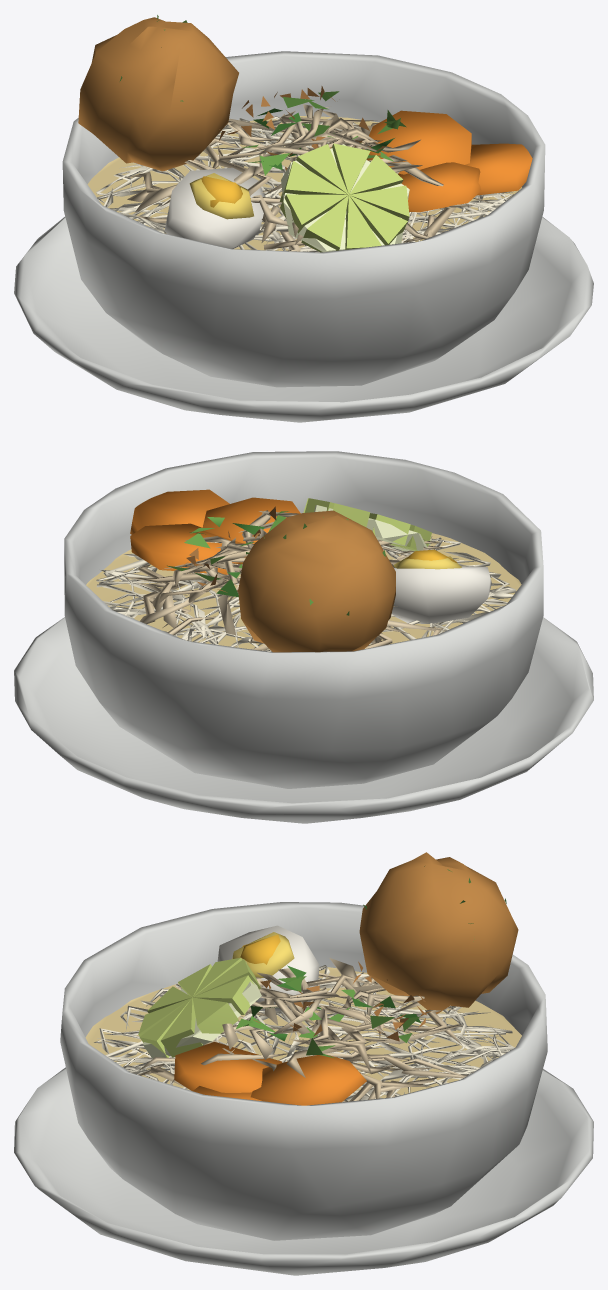
File: soto banjar low poly.fbx
The picture shows the model from 3 angles, top to bottom: view 1: azimuth 30°, elevation 25°; view 2: azimuth 150°, elevation 25°; view 3: azimuth 270°, elevation 25°; orthographic projection.
Visible parts, largest first — view 1: Soto_Banjar_Isi.001; view 2: Soto_Banjar_Isi.001; view 3: Soto_Banjar_Isi.001.
Boxes of the visible parts, bbox=[...] form: Soto_Banjar_Isi.001: bbox=[14, 15, 593, 422]; Soto_Banjar_Isi.001: bbox=[14, 451, 593, 823]; Soto_Banjar_Isi.001: bbox=[14, 852, 593, 1275].
Size of the model in its own units: 23.63 by 13.12 by 23.63.
